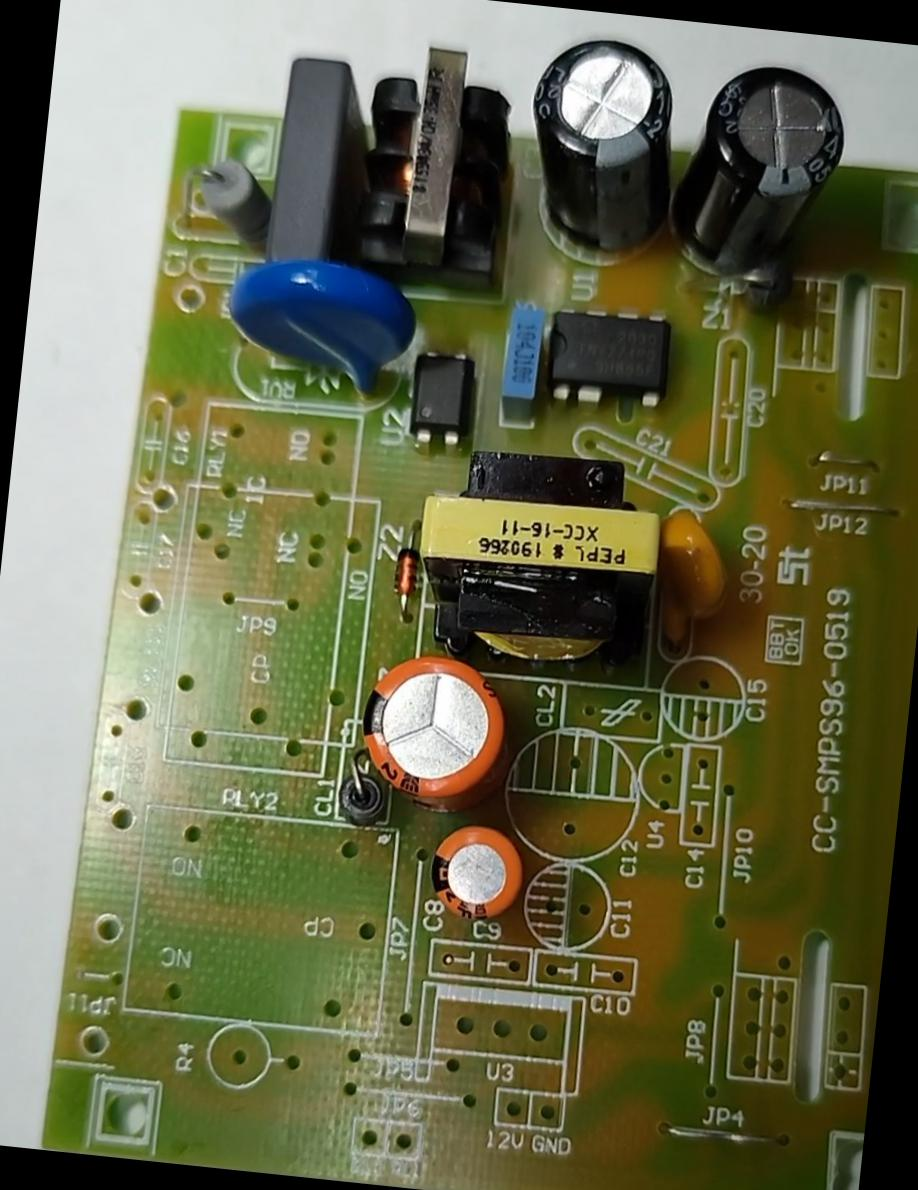Cap1: (348, 645, 516, 828)
Cap2: (413, 818, 532, 926)
Cap3: (511, 27, 692, 272)
Cap4: (669, 53, 857, 304)
MOSFET: (540, 300, 687, 409)
Mov: (212, 241, 419, 410)
Resistor: (182, 146, 279, 242)
Transformer: (396, 438, 676, 675), (344, 31, 529, 310)
